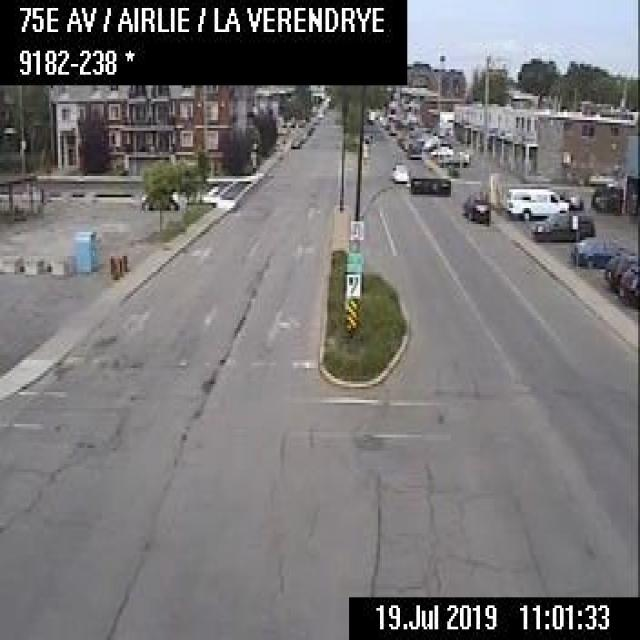construction: (111, 255, 118, 278), (121, 252, 127, 271), (117, 254, 122, 276), (108, 254, 112, 272)
vehicle: (503, 182, 568, 215), (528, 209, 596, 238), (569, 235, 635, 263), (460, 192, 491, 224), (618, 263, 637, 304), (437, 150, 469, 165), (389, 160, 409, 181), (404, 139, 422, 159), (428, 143, 452, 155), (289, 136, 301, 146)
